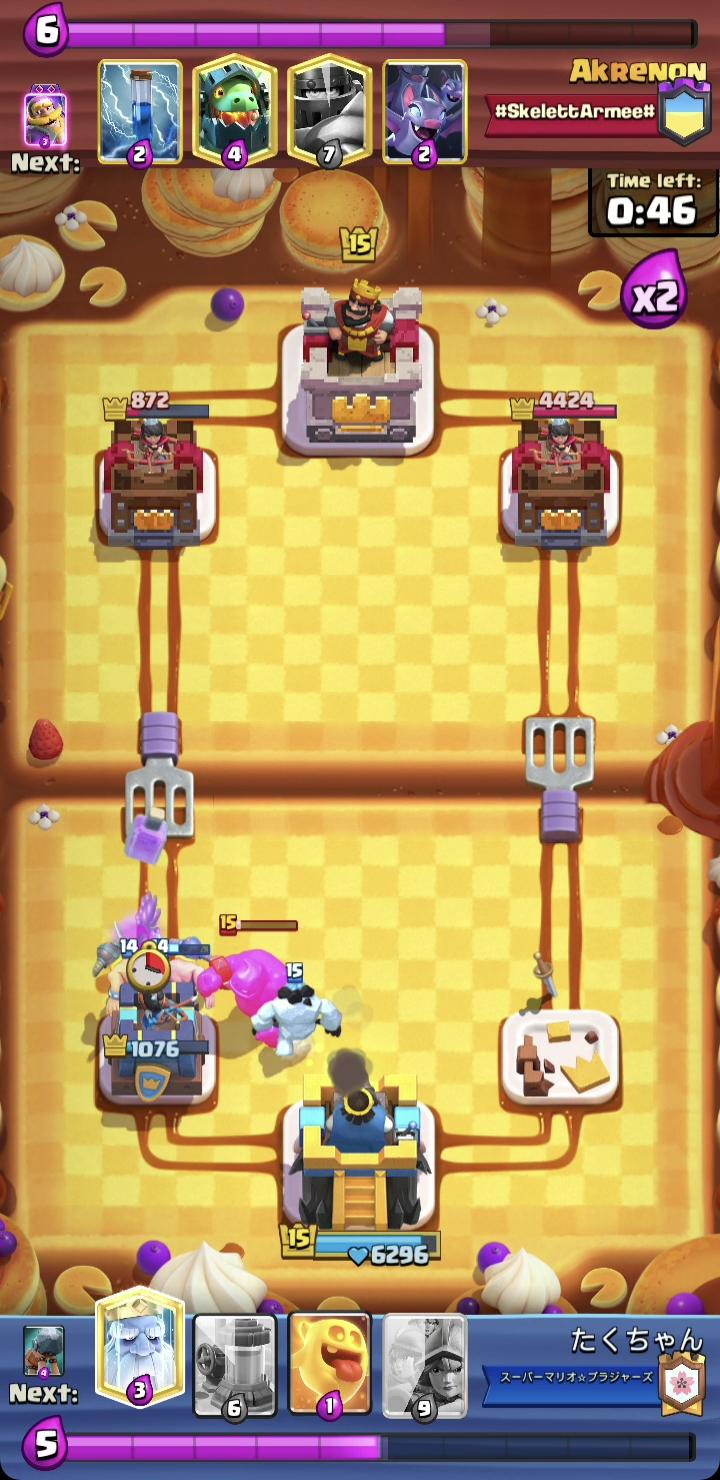ally_elite_barbarian: (90, 919, 160, 1019), (151, 933, 217, 1020)
ally_ice_golem: (245, 961, 341, 1060)
enemy_elixirgolem: (197, 912, 303, 1048)
